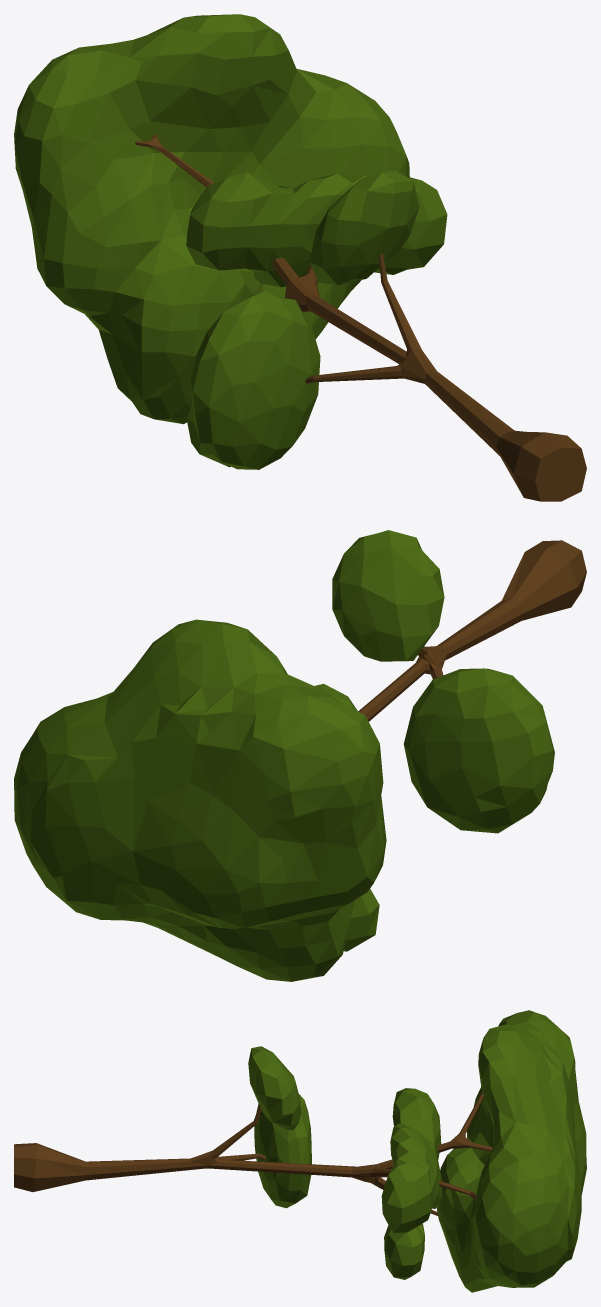
The model's file is Tree_Varient_1_v010(UV_Mapped).fbx.
3 views of the same model, one above another, from view 1: azimuth 30°, elevation 25°; view 2: azimuth 150°, elevation 25°; view 3: azimuth 270°, elevation 25° (orthographic). The views are drawn at different scales.
Parts seen in each view (by area): view 1: Tree_Varient_1; view 2: Tree_Varient_1; view 3: Tree_Varient_1.
Boxes of the visible parts, x1,y1,x2,y2 form: Tree_Varient_1: [14, 14, 586, 501]; Tree_Varient_1: [14, 530, 586, 981]; Tree_Varient_1: [14, 1010, 586, 1292].
Size of the model in its own units: 346 by 650 by 327.
